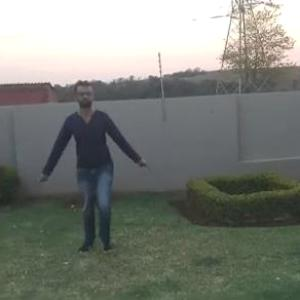land: (23, 74, 144, 275)
